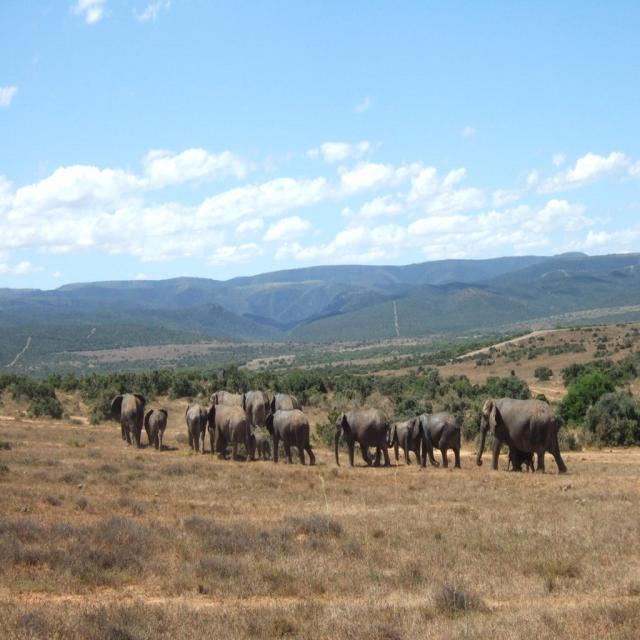elephant: (480, 393, 572, 475), (331, 417, 393, 464), (413, 413, 468, 465), (206, 408, 252, 468), (272, 414, 320, 467), (110, 393, 144, 452), (183, 401, 215, 452), (391, 417, 426, 461), (266, 390, 305, 424), (146, 403, 173, 451), (332, 431, 369, 465), (208, 389, 244, 418), (241, 388, 263, 427), (246, 431, 272, 462)
